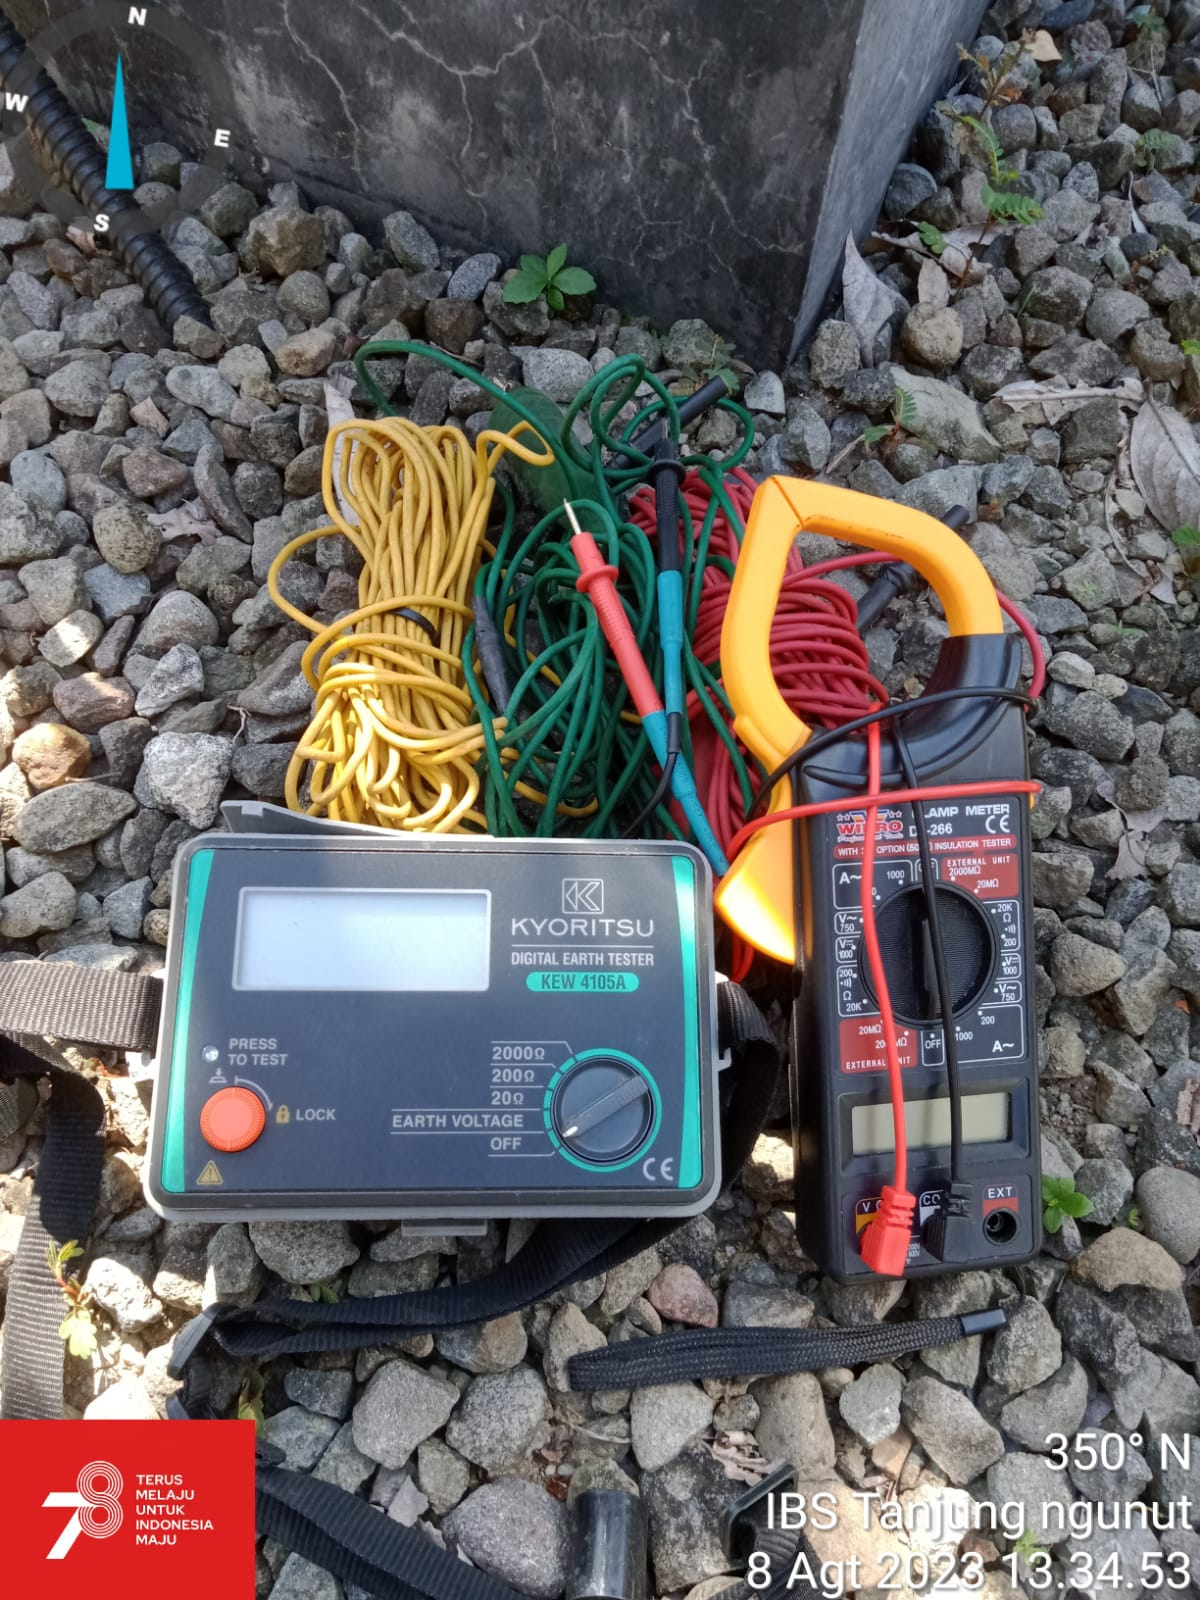EARTH_GROUNDING_TESTER: (147, 821, 720, 1231)
TANG_AMPERE: (725, 472, 1071, 1272)
